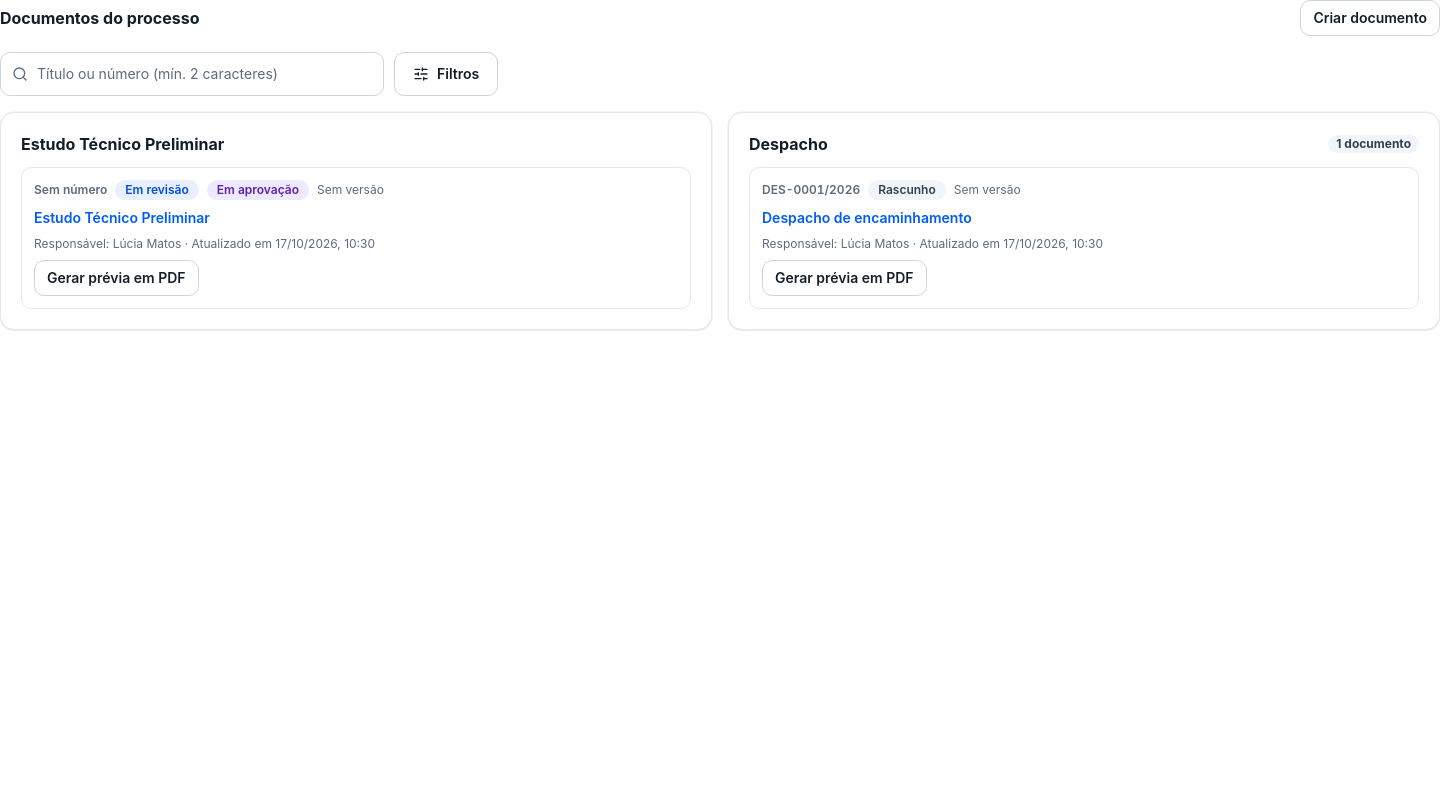
it: SCR-006 · aba "Documentos" (US-062) › [Sucesso] cartões por tipo com selo "Em aprovação"; o menu oferece Ofício e não ETP
Expected: the headings read "Estudo Técnico Preliminar", "Despacho", in this order, x1=21 y1=133 x2=224 y2=155; x1=749 y1=133 x2=828 y2=155
Expected: the text "Em aprovação" is shown, x1=207 y1=180 x2=309 y2=200
What coordinates should you click on to do the following:
click the button "Criar documento"
I would click on:
 (1370, 18)
Its box is x1=1300 y1=0 x2=1439 y2=36.
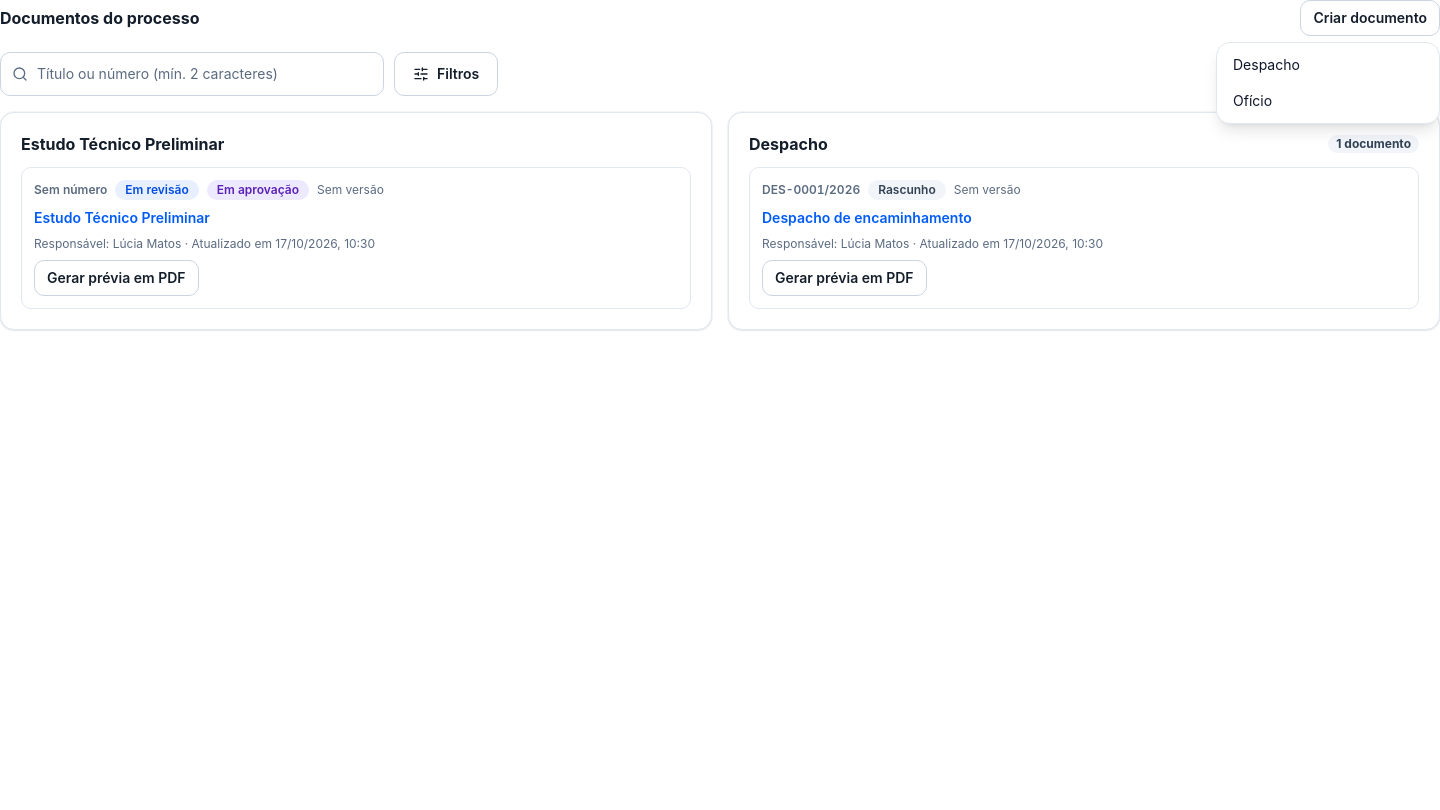
Expected: the menu items read "Despacho", "Ofício", in this order
What coordinates should you click on to do the following:
click the menu item "Ofício"
I would click on:
 (1253, 100)
Its box is x1=1233 y1=92 x2=1272 y2=109.
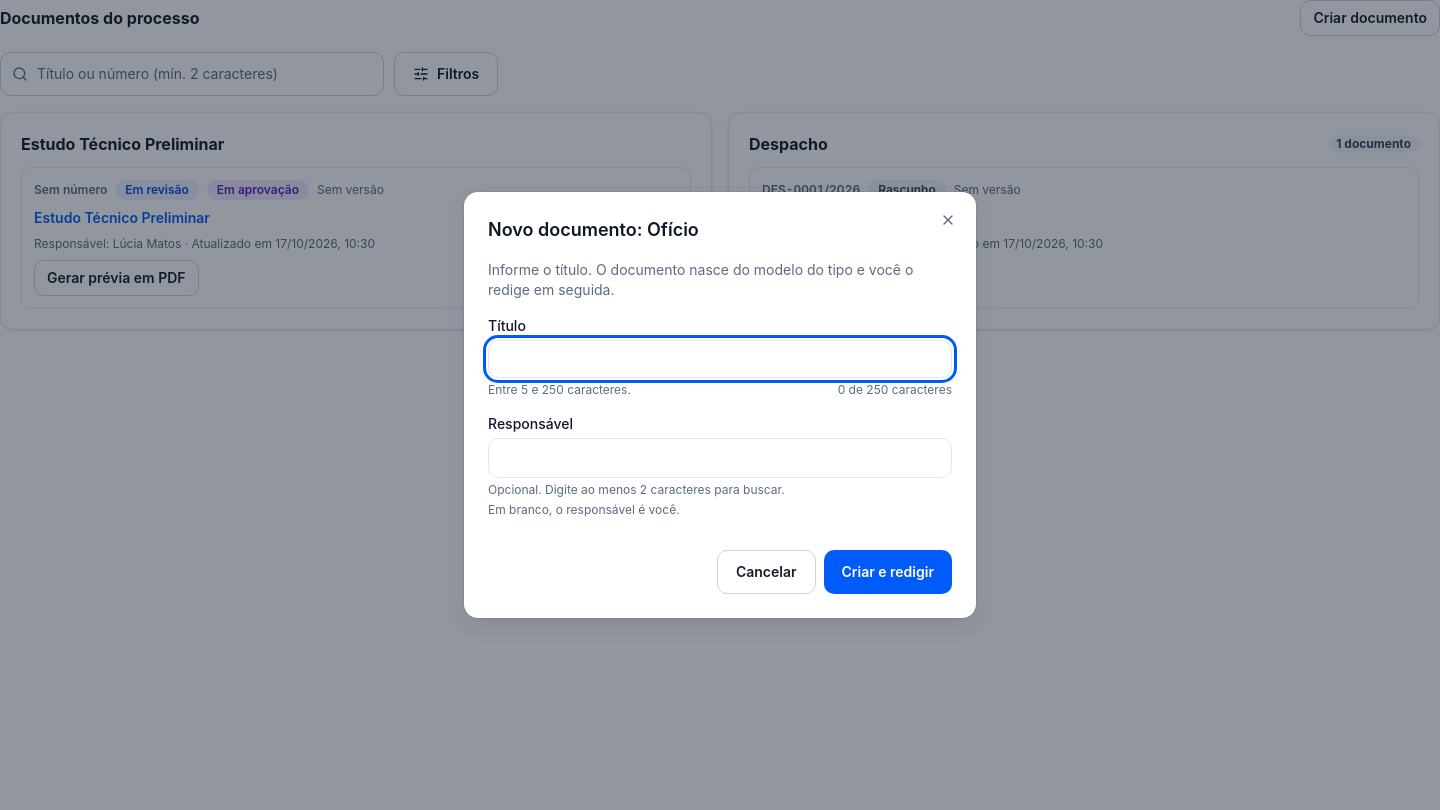
Expected: the button "Criar e redigir" is shown, x1=824 y1=550 x2=952 y2=594
